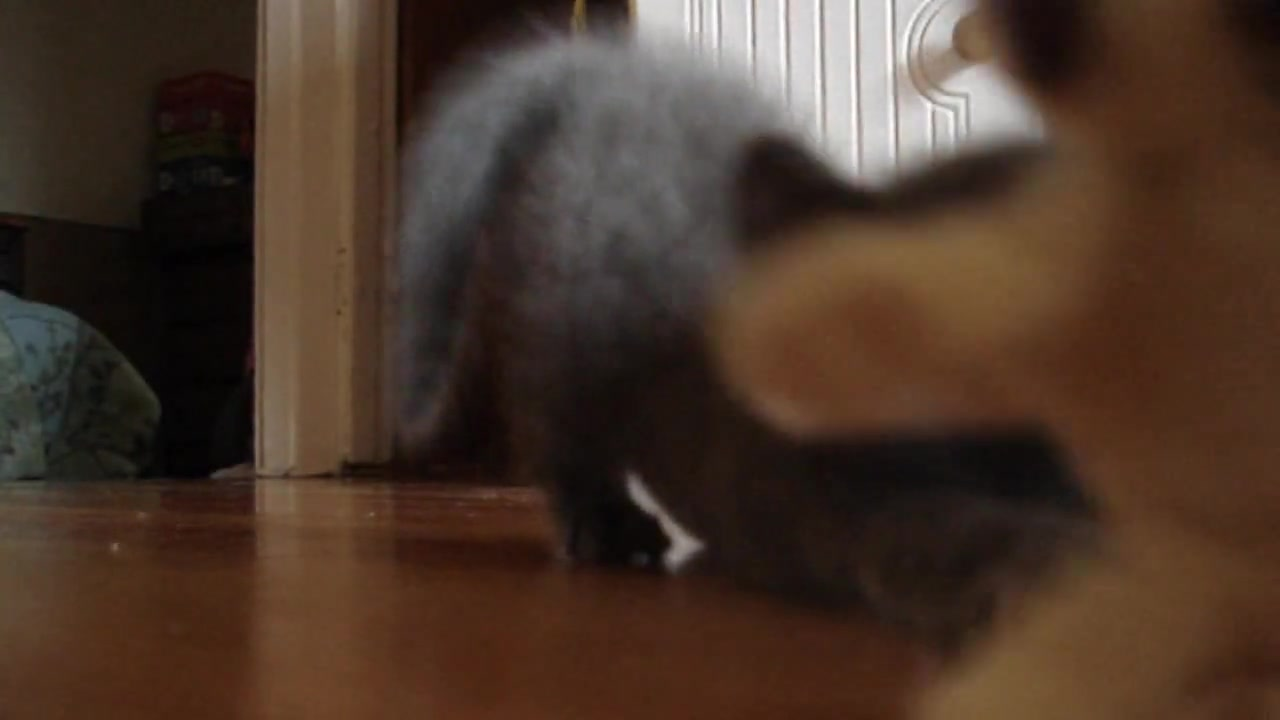cat: (391, 12, 1106, 619)
